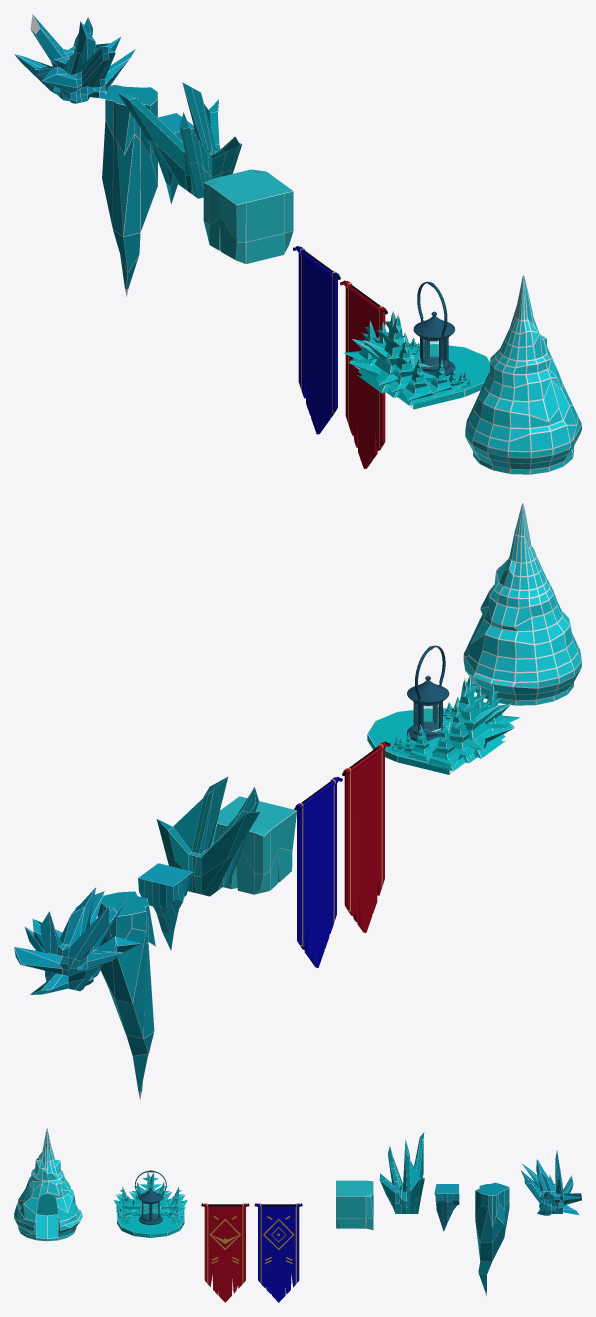
Rendered from Level.fbx.
The picture shows the model from 3 angles, top to bottom: view 1: azimuth 30°, elevation 25°; view 2: azimuth 150°, elevation 25°; view 3: azimuth 270°, elevation 25°; orthographic projection. The views are drawn at different scales.
Parts seen in each view (by area): view 1: Cube.007, Cylinder, Cube, Cube.008, Cube.004, Cube.002, Cube.003, Cube.005, Cube.001; view 2: Cube.007, Cylinder, Cube.005, Cube.003, Cube.004, Cube, Cube.002, Cube.008, Cube.001; view 3: Cube.007, Cube.004, Cube.005, Cylinder, Cube, Cube.002, Cube.003, Cube.008, Cube.001.
Boxes of the visible parts, x1=… form: Cube.007: x1=465, y1=275, x2=581, y2=474; Cylinder: x1=343, y1=281, x2=489, y2=409; Cube: x1=102, y1=85, x2=157, y2=296; Cube.008: x1=203, y1=169, x2=293, y2=263; Cube.004: x1=293, y1=246, x2=340, y2=434; Cube.002: x1=118, y1=82, x2=242, y2=198; Cube.003: x1=14, y1=14, x2=135, y2=103; Cube.005: x1=340, y1=280, x2=387, y2=468; Cube.001: x1=144, y1=113, x2=194, y2=204; Cube.007: x1=463, y1=503, x2=581, y2=705; Cylinder: x1=367, y1=645, x2=520, y2=774; Cube.005: x1=342, y1=741, x2=390, y2=932; Cube.003: x1=14, y1=887, x2=139, y2=994; Cube.004: x1=294, y1=776, x2=342, y2=967; Cube: x1=97, y1=891, x2=155, y2=1099; Cube.002: x1=156, y1=777, x2=260, y2=896; Cube.008: x1=216, y1=796, x2=297, y2=894; Cube.001: x1=138, y1=863, x2=193, y2=950; Cube.007: x1=14, y1=1128, x2=82, y2=1241; Cube.004: x1=254, y1=1203, x2=302, y2=1302; Cube.005: x1=201, y1=1203, x2=249, y2=1302; Cylinder: x1=114, y1=1170, x2=187, y2=1237; Cube: x1=475, y1=1182, x2=509, y2=1296; Cube.002: x1=379, y1=1132, x2=424, y2=1213; Cube.003: x1=520, y1=1150, x2=581, y2=1215; Cube.008: x1=336, y1=1180, x2=373, y2=1230; Cube.001: x1=434, y1=1184, x2=459, y2=1231.
Size of the model in its own units: 736 by 1693 by 4988.
